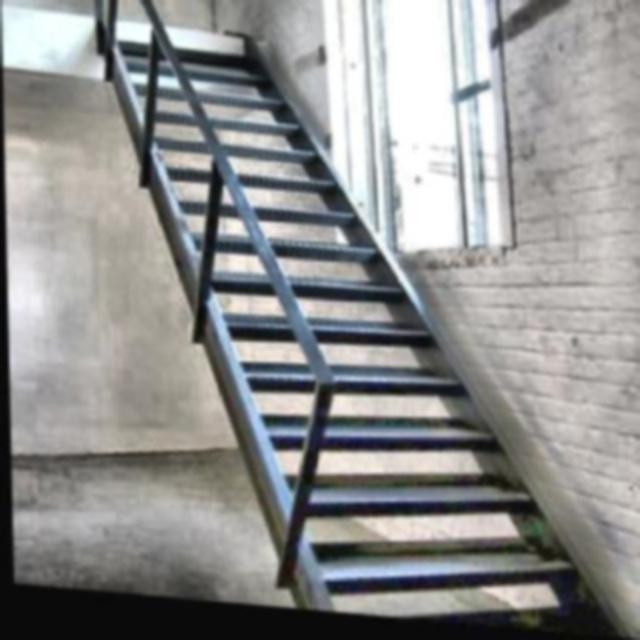stair: (84, 40, 602, 618)
